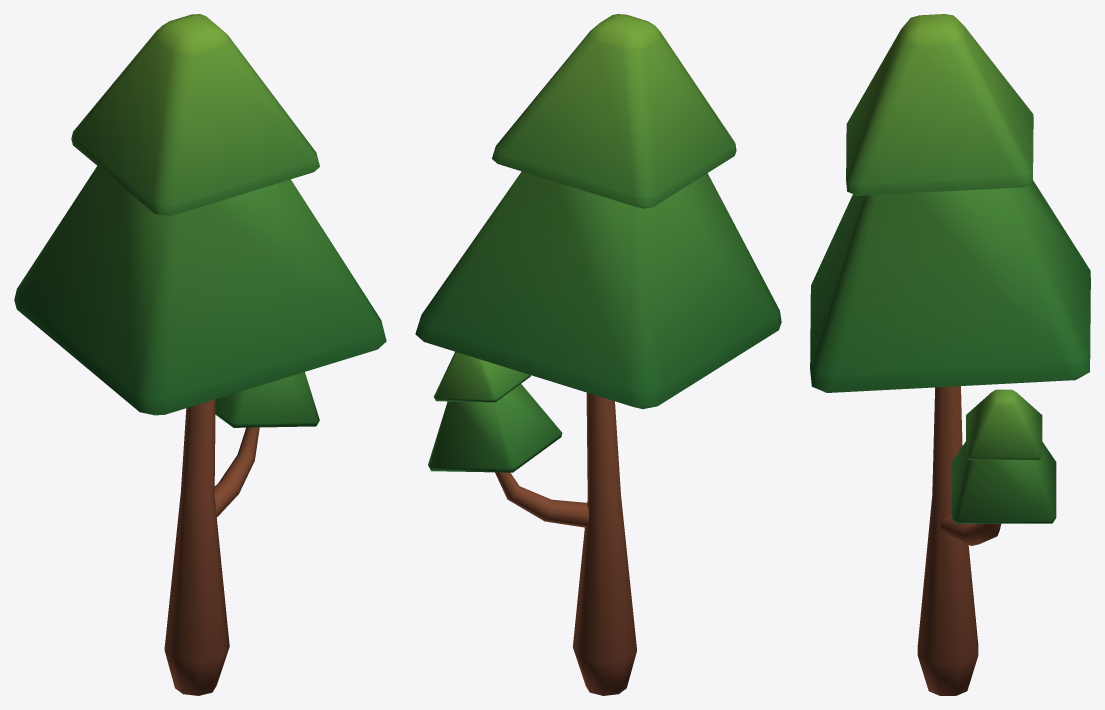
File: tree-pine.glb
3 views of the same model, side by side, from view 1: azimuth 30°, elevation 25°; view 2: azimuth 150°, elevation 25°; view 3: azimuth 270°, elevation 25° (orthographic).
Parts seen in each view (by area): view 1: tree.pine; view 2: tree.pine; view 3: tree.pine.
Boxes of the visible parts, box(x1,y1,x2,y2) form: tree.pine: box(14, 14, 386, 695); tree.pine: box(415, 14, 781, 695); tree.pine: box(810, 14, 1090, 695).
Size of the model in its own units: 2.01 by 5.27 by 2.
